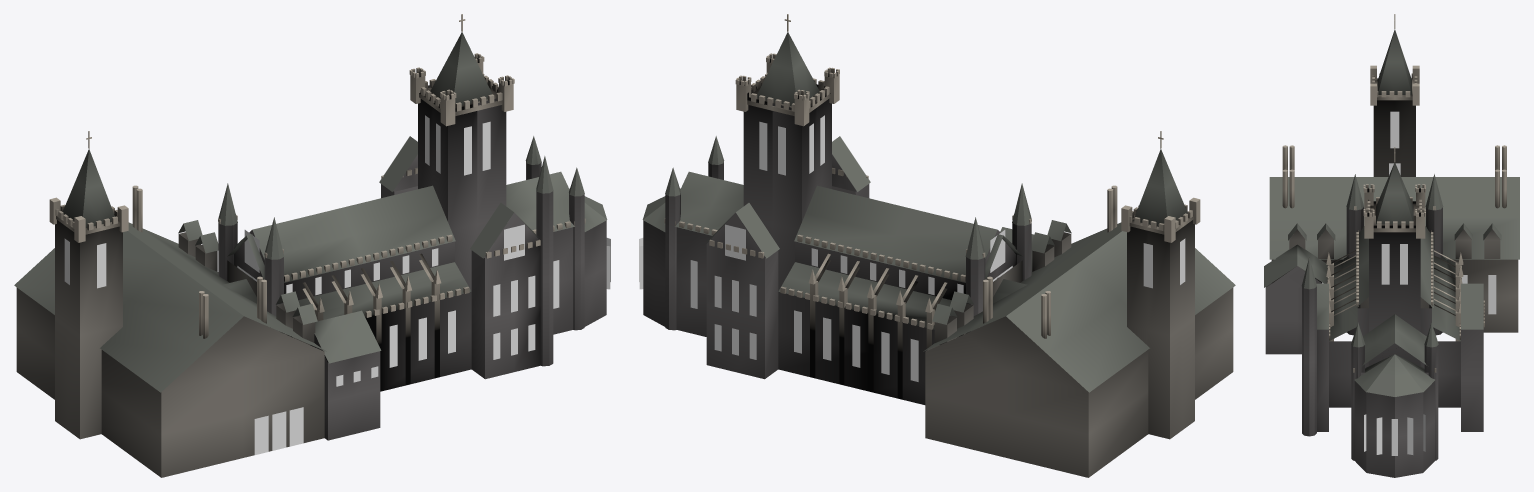
Rendered from christchurch.glb.
The picture shows the model from 3 angles, left to right: view 1: azimuth 30°, elevation 25°; view 2: azimuth 150°, elevation 25°; view 3: azimuth 270°, elevation 25°; orthographic projection. The views are drawn at different scales.
Parts seen in each view (by area): view 1: cathedral_rubble, synod_wall, cathedral_slate, synod_slate, cathedral_ashlar, cathedral_decal, synod_ashlar, synod_decal; view 2: synod_wall, cathedral_rubble, cathedral_slate, synod_slate, cathedral_ashlar, cathedral_decal, synod_ashlar, synod_decal; view 3: cathedral_rubble, cathedral_slate, synod_slate, synod_wall, cathedral_ashlar, synod_ashlar, cathedral_decal, synod_decal.
Boxes of the visible parts, x1,y1,x2,y2 form: cathedral_rubble: (218,82,606,440); synod_wall: (16,220,324,477); cathedral_slate: (218,32,607,363); synod_slate: (14,149,326,392); cathedral_ashlar: (218,14,585,391); cathedral_decal: (237,115,610,386); synod_ashlar: (49,131,266,338); synod_decal: (64,238,303,454); synod_wall: (925,220,1233,477); cathedral_rubble: (643,83,1031,404); cathedral_slate: (642,32,1048,329); synod_slate: (923,149,1235,392); cathedral_ashlar: (664,14,1031,399); cathedral_decal: (639,115,1012,381); synod_ashlar: (983,131,1200,338); synod_decal: (1143,238,1185,288); cathedral_rubble: (1265,201,1483,477); cathedral_slate: (1264,162,1483,396); synod_slate: (1269,29,1519,259); synod_wall: (1271,100,1518,332); cathedral_ashlar: (1326,147,1484,372); synod_ashlar: (1282,14,1506,208); cathedral_decal: (1364,244,1425,455); synod_decal: (1322,111,1496,314).
Size of the model in its own units: 55.44 by 31.45 by 26.76.
